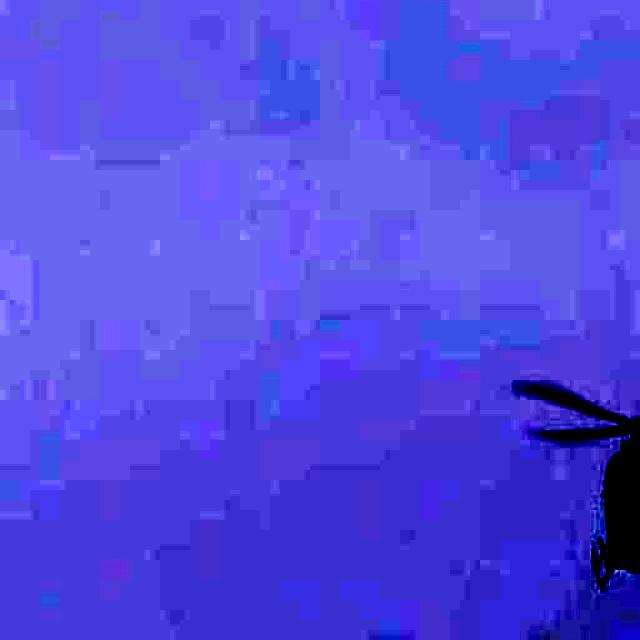drone: (485, 335, 640, 601)
